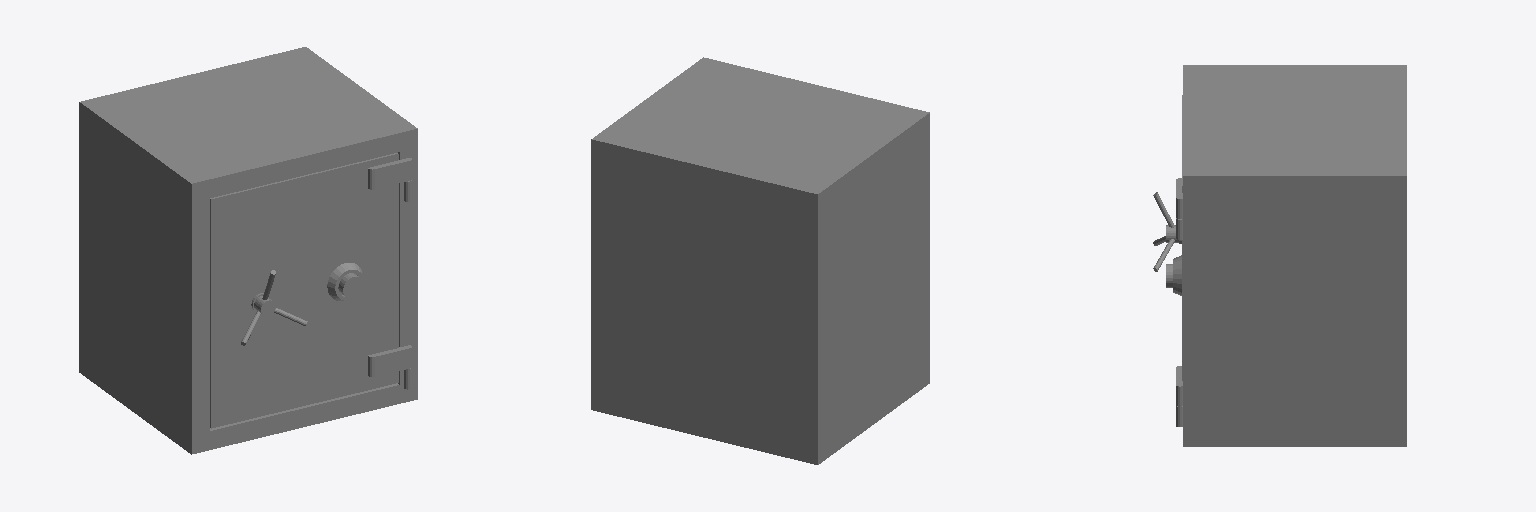
The model's file is safebox_OBJ.obj.
3 renders of one model, left to right at view 1: azimuth 30°, elevation 25°; view 2: azimuth 150°, elevation 25°; view 3: azimuth 270°, elevation 25°, orthographic.
Parts seen in each view (by area): view 1: Safebox_body, Object001; view 2: Safebox_body; view 3: Safebox_body, Object001.
Part boxes in pixels (x1,y1,x2,y2): Safebox_body: (79, 47, 417, 454); Object001: (210, 153, 411, 428); Safebox_body: (591, 57, 929, 464); Safebox_body: (1176, 65, 1406, 446); Object001: (1153, 95, 1182, 406).
Bounding box in the file's own units: 35 × 40 × 33.91.